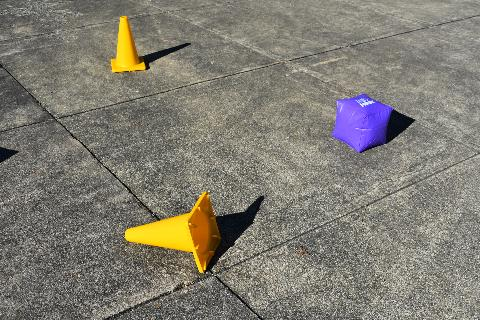cone: (125, 190, 223, 274), (110, 15, 146, 73)
cube: (331, 93, 393, 155)
